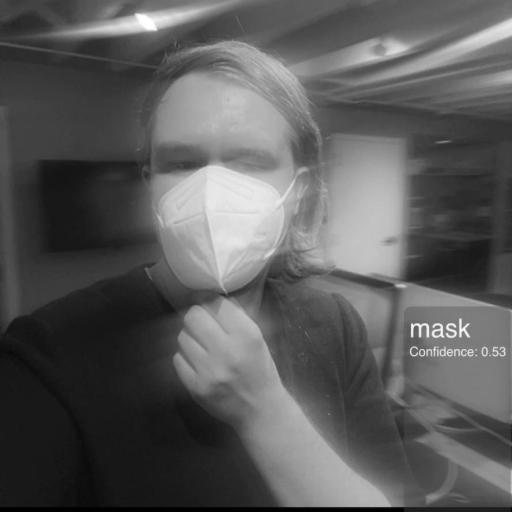mask: (131, 24, 335, 286)
